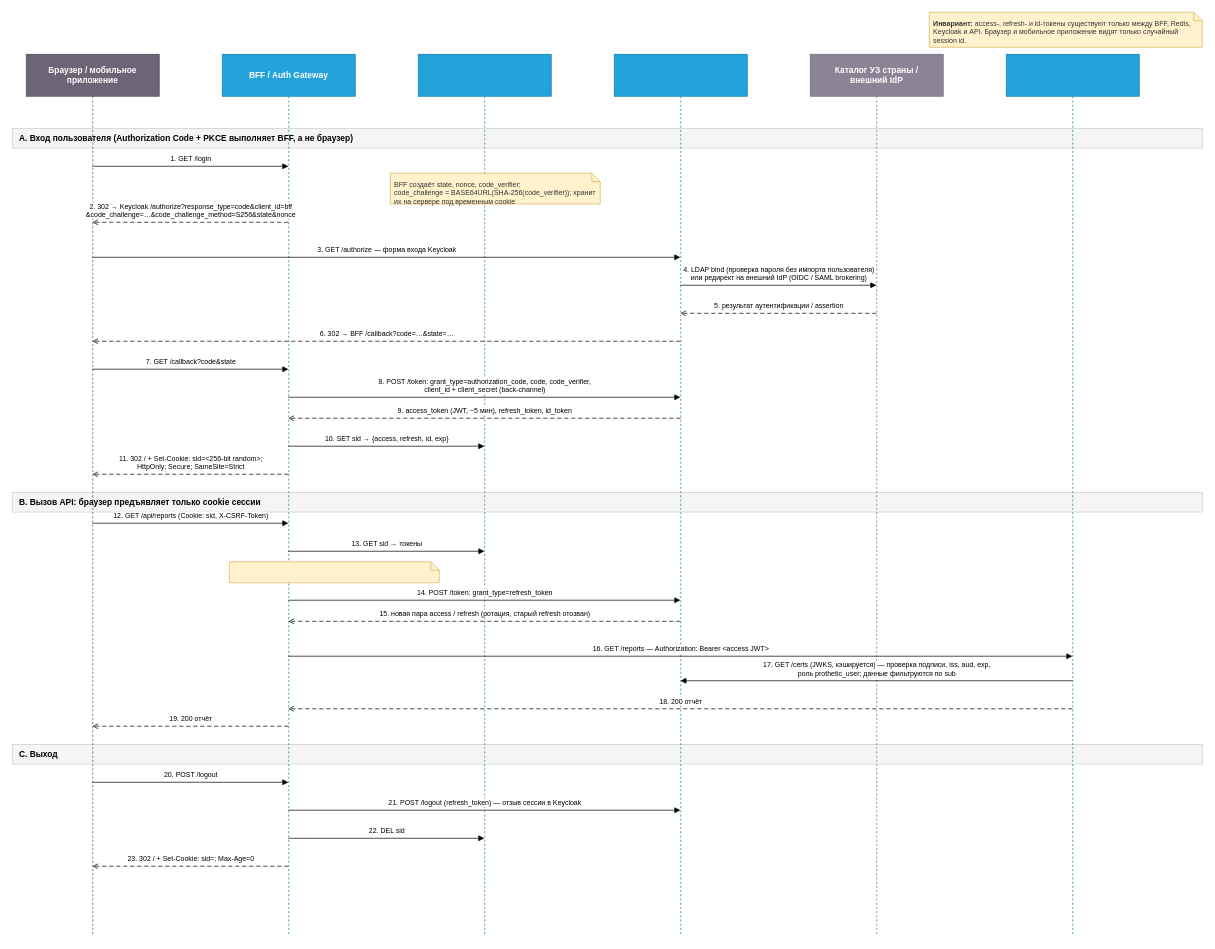
Some shapes in this 1215 by 949 pixel diagram are drawn without their labels. Each missing label, with the box of its shape:
access истёк? → шаги 14–15, иначе сразу 16: (229, 561, 439, 583)
API: (1006, 54, 1139, 936)
Keycloak (IdP страны): (614, 54, 747, 936)
Хранилище сессий (Redis): (418, 54, 551, 936)
